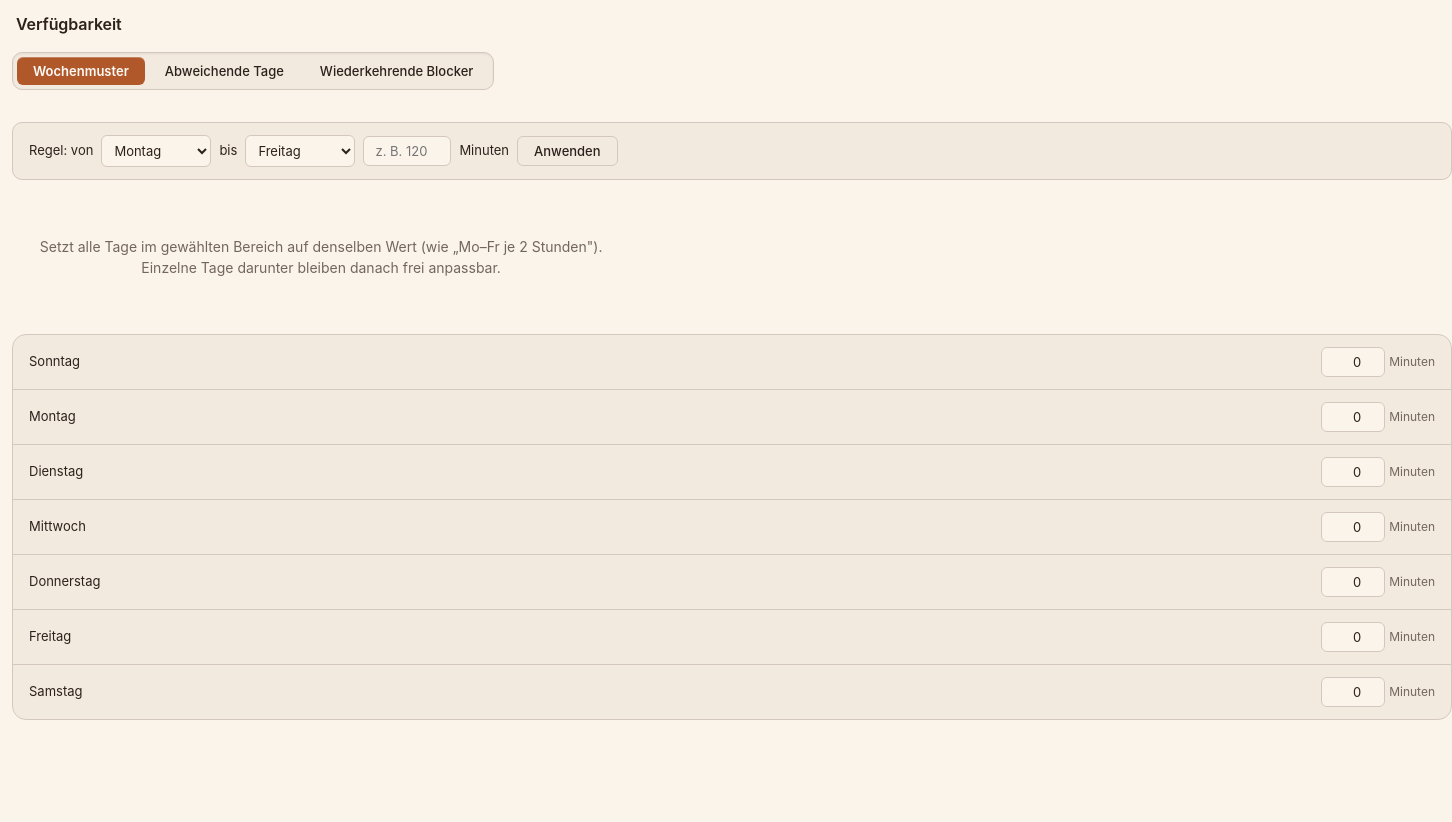
Test: AvailabilitySetup › Wiederkehrende Blocker › listet bestehende wiederkehrende Blocker mit Wochentag, Uhrzeit und Bezeichnung
Click the tab "Wiederkehrende Blocker" at (397, 71), box [304,57,489,85]
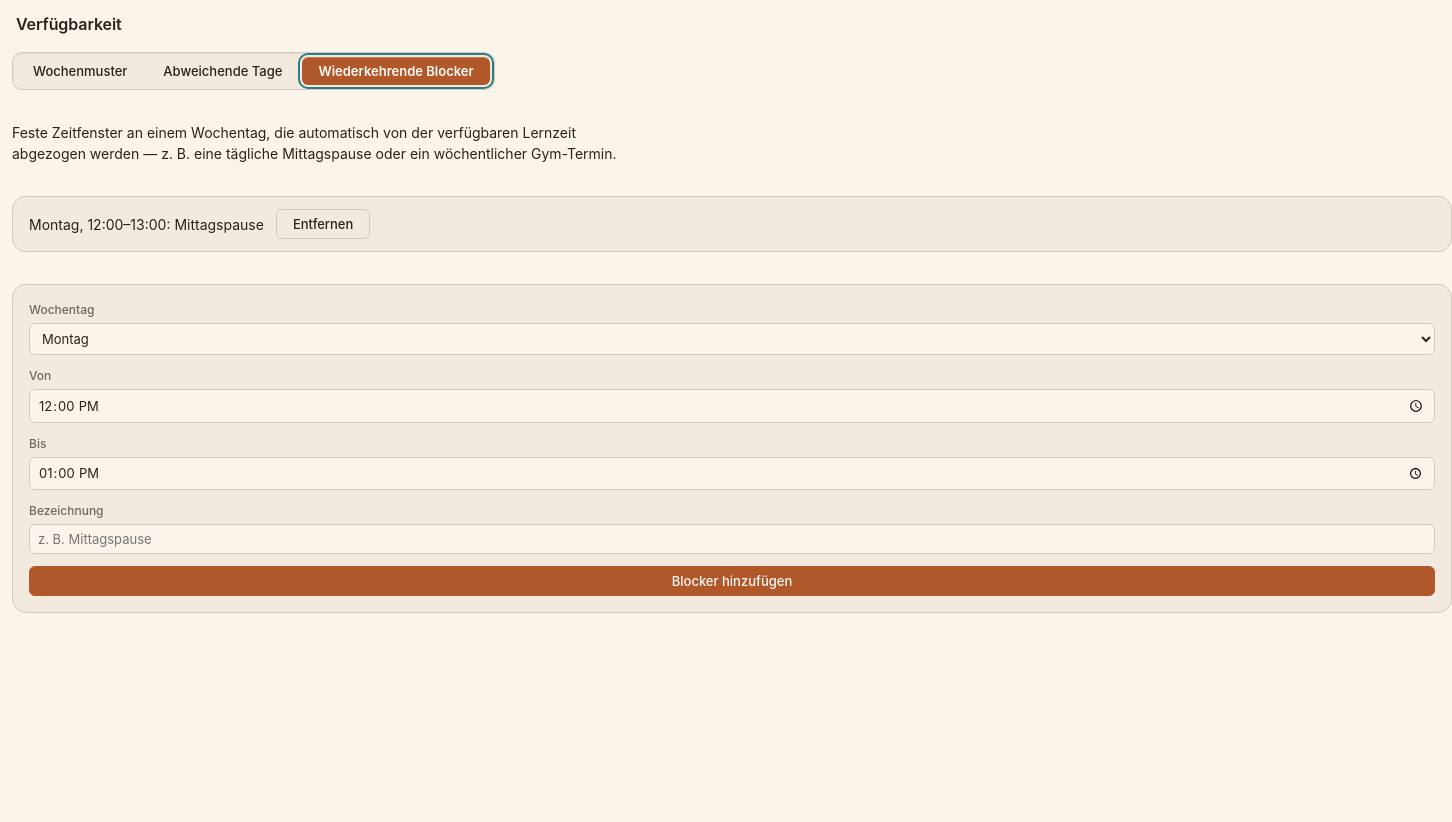
Expected: the list item "Montag, 12:00–13:00: Mittagspause Entfernen" is shown, [29,209,370,239]
